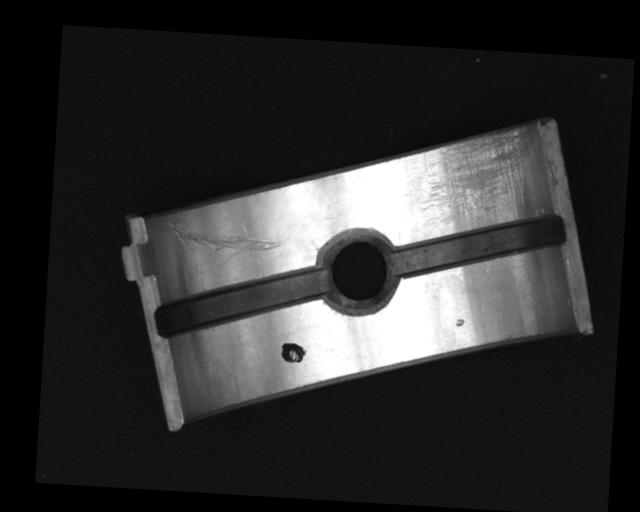blot: (279, 341, 307, 365)
bruise: (453, 318, 465, 327)
gap: (152, 256, 329, 350), (391, 205, 568, 286)
hole: (315, 227, 401, 313)
nick: (163, 222, 286, 275)
scratch: (418, 122, 534, 233)
